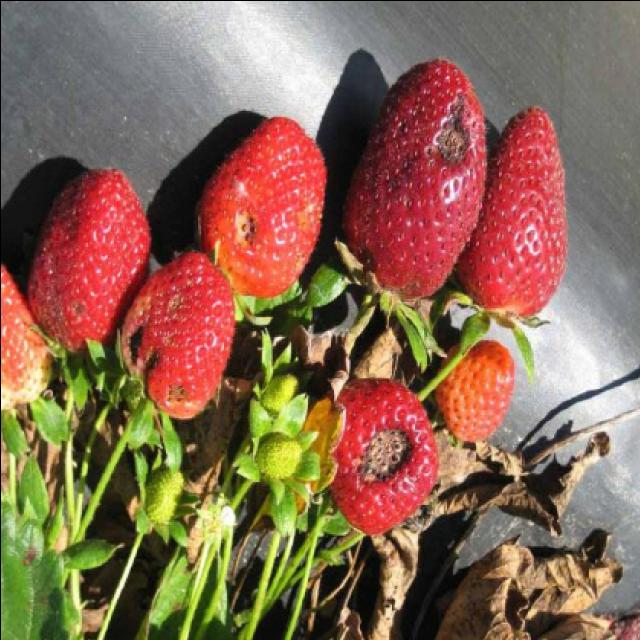Anthracnose Fruit Rot: (438, 103, 470, 169), (363, 436, 413, 468), (125, 325, 151, 360), (225, 213, 255, 239), (167, 385, 189, 407)
